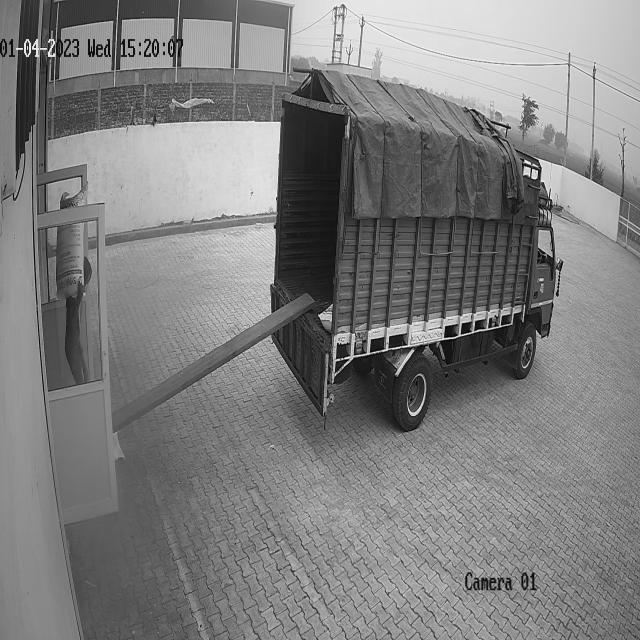sack: (56, 182, 89, 298)
